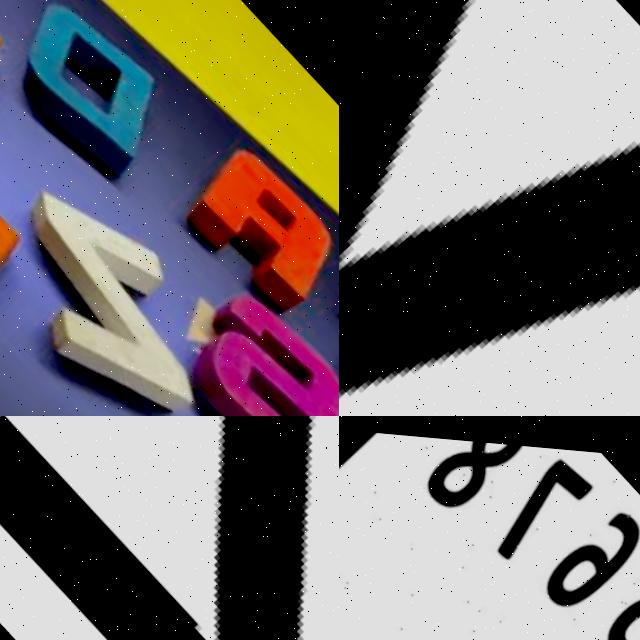5: (562, 515, 640, 640)
6: (498, 457, 640, 640)
7: (436, 433, 635, 612)
8: (376, 429, 585, 569)
A: (171, 116, 339, 311)
D: (0, 0, 187, 185)
S: (171, 267, 339, 416)
T: (295, 250, 339, 400)
V: (339, 0, 640, 416)
Z: (0, 416, 339, 640), (0, 143, 255, 416)
